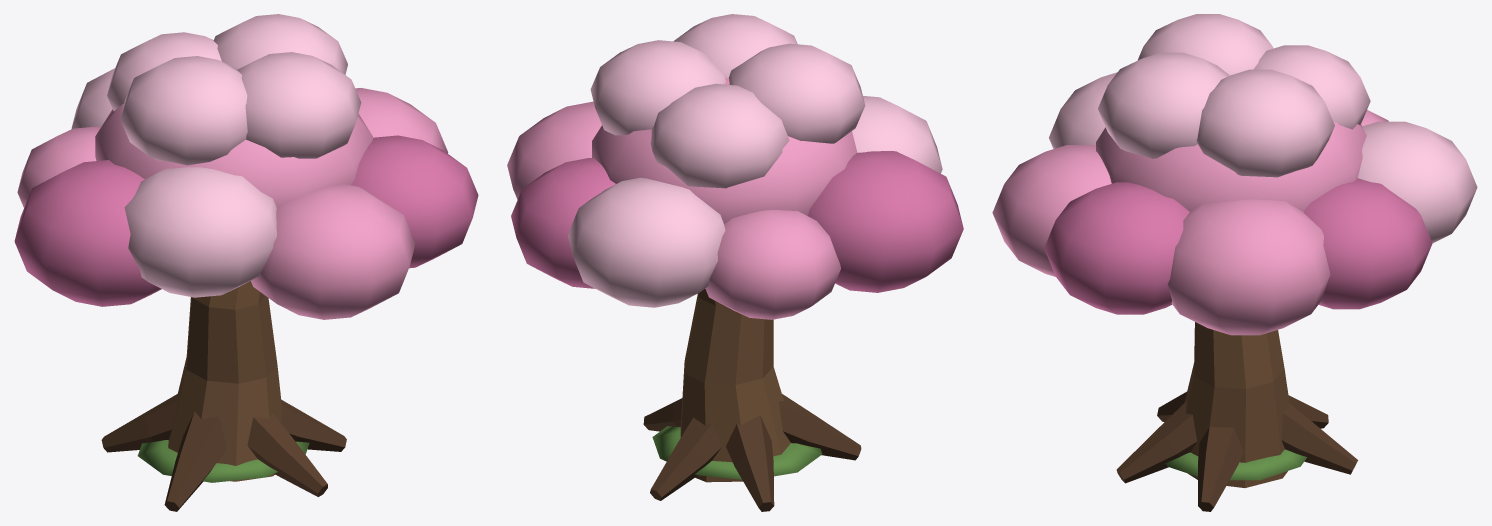
Rendered from GiantTreeC.fbx.
The picture shows the model from 3 angles, left to right: view 1: azimuth 30°, elevation 25°; view 2: azimuth 150°, elevation 25°; view 3: azimuth 270°, elevation 25°; orthographic projection. The views are drawn at different scales.
Visible parts, largest first — view 1: Frame; view 2: Frame; view 3: Frame.
Boxes of the visible parts, bbox=[...] form: Frame: bbox=[14, 14, 478, 511]; Frame: bbox=[507, 14, 963, 511]; Frame: bbox=[992, 14, 1477, 511].
Size of the model in its own units: 12.97 by 12.37 by 13.
1 material, 1 textured.
